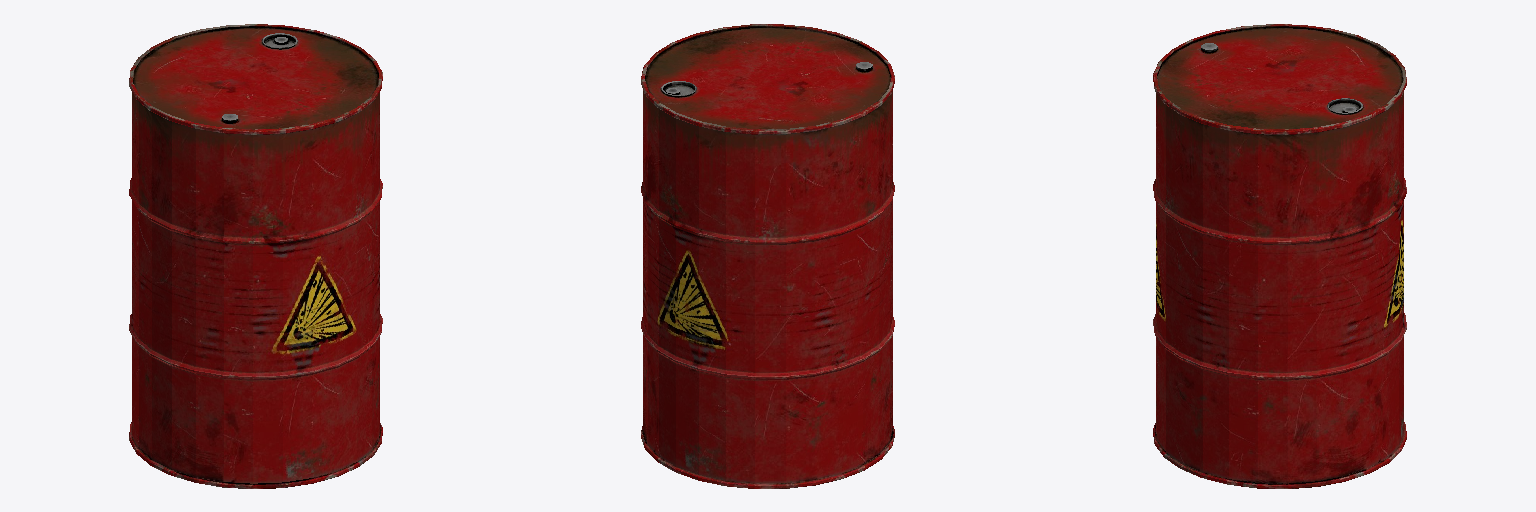
3 renders of one model, left to right at view 1: azimuth 30°, elevation 25°; view 2: azimuth 150°, elevation 25°; view 3: azimuth 270°, elevation 25°, orthographic.
Parts seen in each view (by area): view 1: Barrel_01; view 2: Barrel_01; view 3: Barrel_01.
Boxes of the visible parts, x1,y1,x2,y2 form: Barrel_01: [129, 24, 382, 488]; Barrel_01: [641, 24, 894, 488]; Barrel_01: [1153, 24, 1406, 488].
Size of the model in its own units: 0.563 by 0.88 by 0.563.
1 materials, 1 textured.